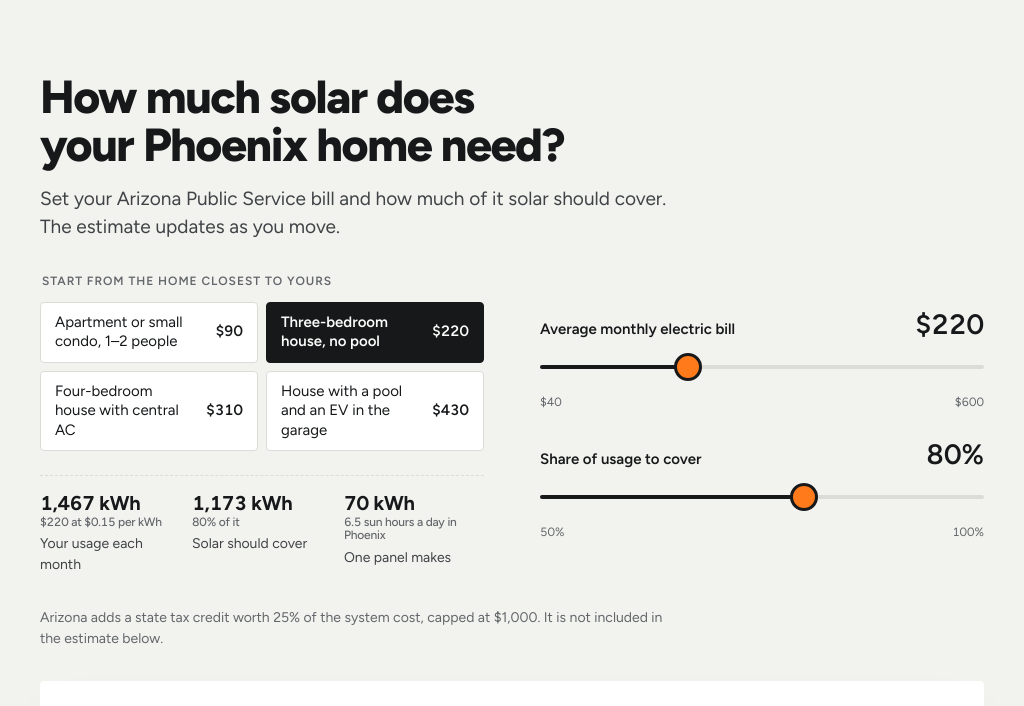
what the simulator explains › says the savings stop at the bill when generation is worth more
Click the button "House with a pool and an EV in the garage $430": (375, 411) [266,371,484,451]
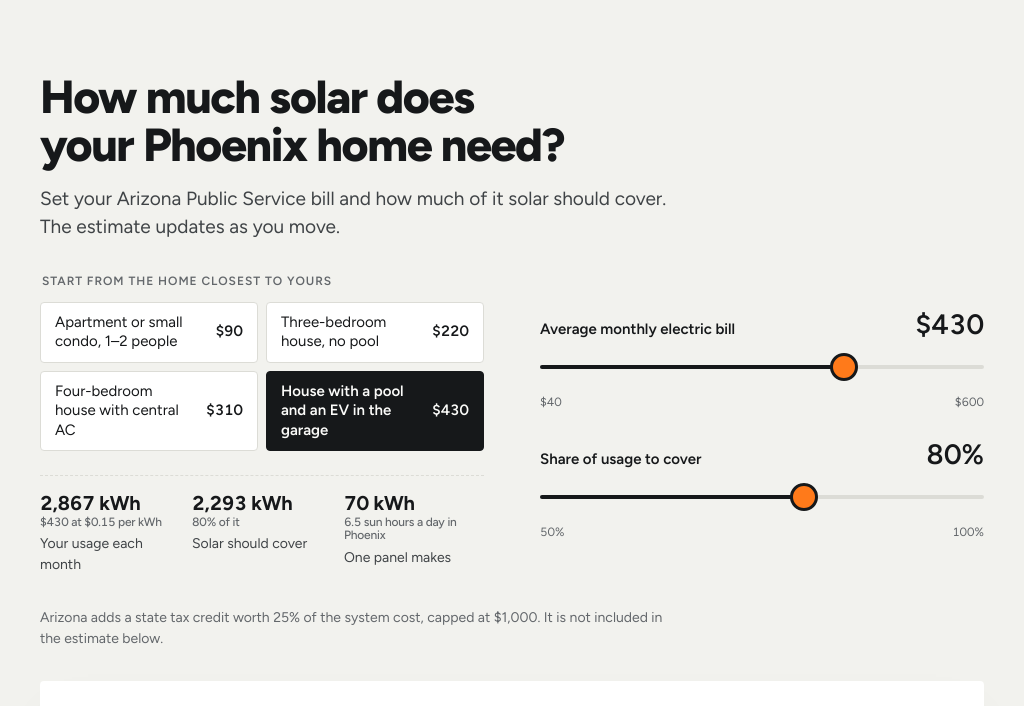
Set the slider labelled "Share of usage to cover" to "100": (976, 497) [540,475,984,519]
(page scrolled)
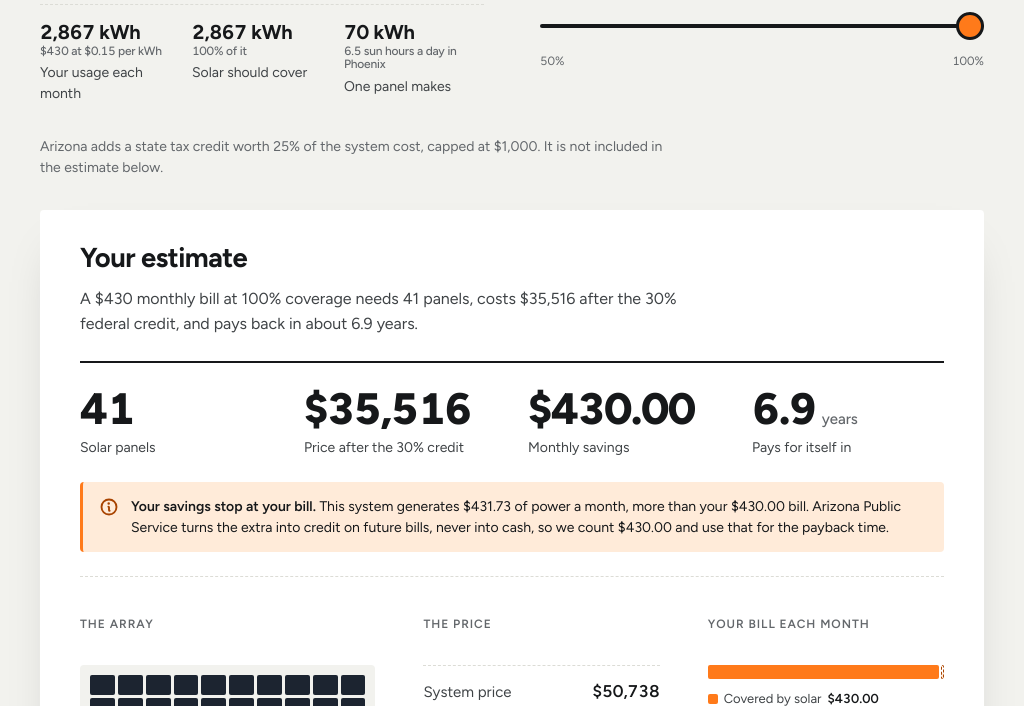
expect the text "41 panels" is shown: met, box [80,286,716,337]
